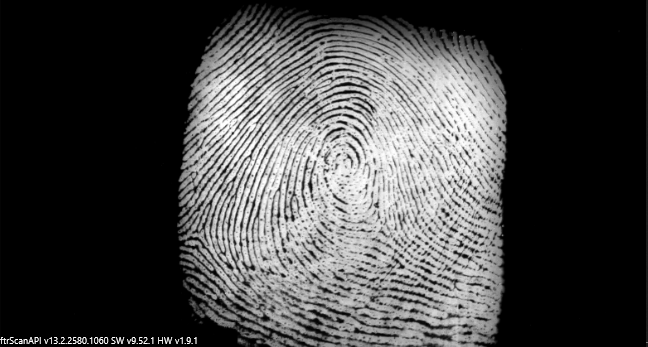nucelo: (322, 143, 360, 176)
verticilo: (186, 220, 211, 247), (372, 216, 393, 239)
